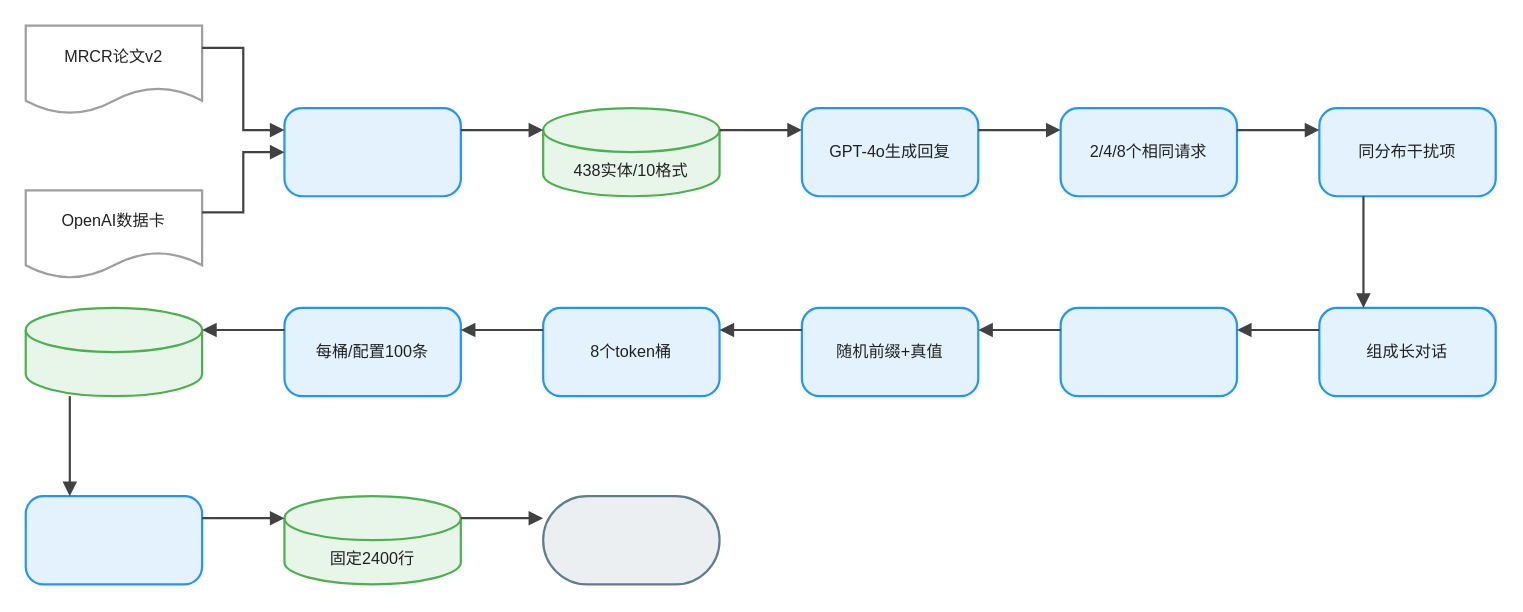
This 1523x612 diagram has some shape labels left out. The box of each missing label's shape, as (x1, y1, x2, y2) in pixels:
HF f4c69fa: (541, 494, 720, 585)
修复needle/GT: (24, 494, 203, 585)
初始2400行: (24, 306, 203, 397)
扩展版设计: (283, 106, 461, 197)
选择第i个回复: (1059, 306, 1237, 397)
